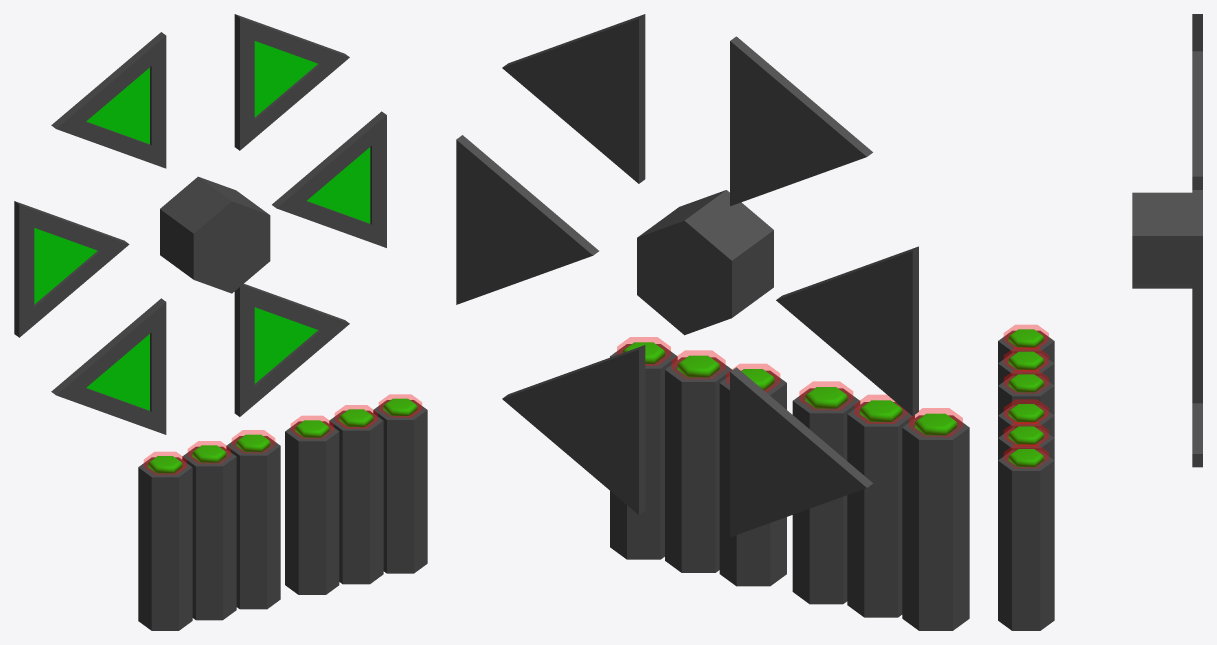
Rendered from Timed Buttons.fbx.
The picture shows the model from 3 angles, left to right: view 1: azimuth 30°, elevation 25°; view 2: azimuth 150°, elevation 25°; view 3: azimuth 270°, elevation 25°; orthographic projection. The views are drawn at different scales.
Parts seen in each view (by area): view 1: Base, Pillar3, Pillar0, Pillar1, Pillar4, Pillar5, Pillar2, F5, F3, F1, F4, F2 (+13 smaller); view 2: Base, Pillar0, F5, F1, F0, F4, F2, F3, Pillar4, Pillar1, Pillar2, Pillar5 (+11 smaller); view 3: Pillar5, Base, F0, F5, Pillar2, IN3, IN1, IN0, IN2, IN5, IN4, Pillar1 (+11 smaller).
Part boxes in pixels (x1,y1,x2,y2): Base: (160, 176, 270, 293); Pillar3: (285, 421, 339, 594); Pillar0: (138, 457, 192, 630); Pillar1: (182, 446, 236, 620); Pillar4: (329, 410, 383, 584); Pillar5: (373, 400, 427, 573); Pillar2: (226, 436, 280, 609); F5: (234, 14, 349, 150); F3: (14, 201, 129, 337); F1: (234, 284, 349, 416); F4: (51, 32, 166, 168); F2: (51, 298, 166, 434); Base: (637, 190, 773, 335); Pillar0: (902, 415, 969, 630); F5: (502, 14, 645, 183); F1: (502, 345, 645, 514); F0: (456, 135, 598, 304); F4: (730, 36, 872, 206); F2: (730, 367, 872, 537); F3: (776, 246, 918, 416); Pillar4: (665, 357, 731, 572); Pillar1: (847, 402, 914, 617); Pillar2: (792, 388, 860, 604); Pillar5: (610, 344, 677, 559); Pillar5: (998, 450, 1054, 630); Base: (1132, 192, 1202, 288); F0: (1192, 264, 1202, 403); F5: (1192, 51, 1202, 189); Pillar2: (998, 375, 1054, 415); IN3: (1004, 399, 1048, 423); IN1: (1004, 347, 1048, 371); IN0: (1004, 325, 1048, 348); IN2: (1004, 370, 1048, 393); IN5: (1004, 444, 1048, 467); IN4: (1004, 422, 1048, 445); Pillar1: (998, 353, 1054, 385).
Bounding box in the file's own units: 2.5 × 3.3 × 1.16.
